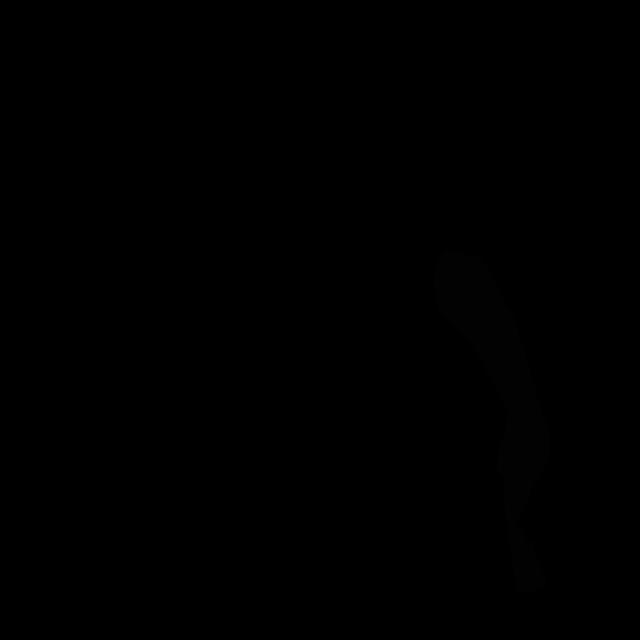cardboard: (433, 251, 550, 593)
